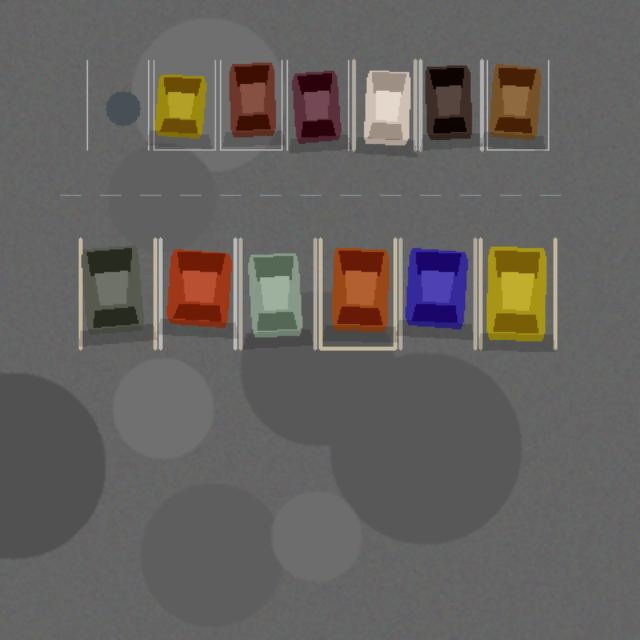space-empty: (87, 60, 148, 149)
space-occupied: (80, 239, 155, 348), (160, 239, 235, 348), (240, 239, 315, 348), (320, 239, 395, 348), (400, 239, 475, 348), (480, 239, 555, 348), (153, 60, 215, 149), (353, 60, 415, 149), (220, 60, 281, 149), (287, 60, 348, 149), (420, 60, 481, 149), (487, 60, 548, 149)
